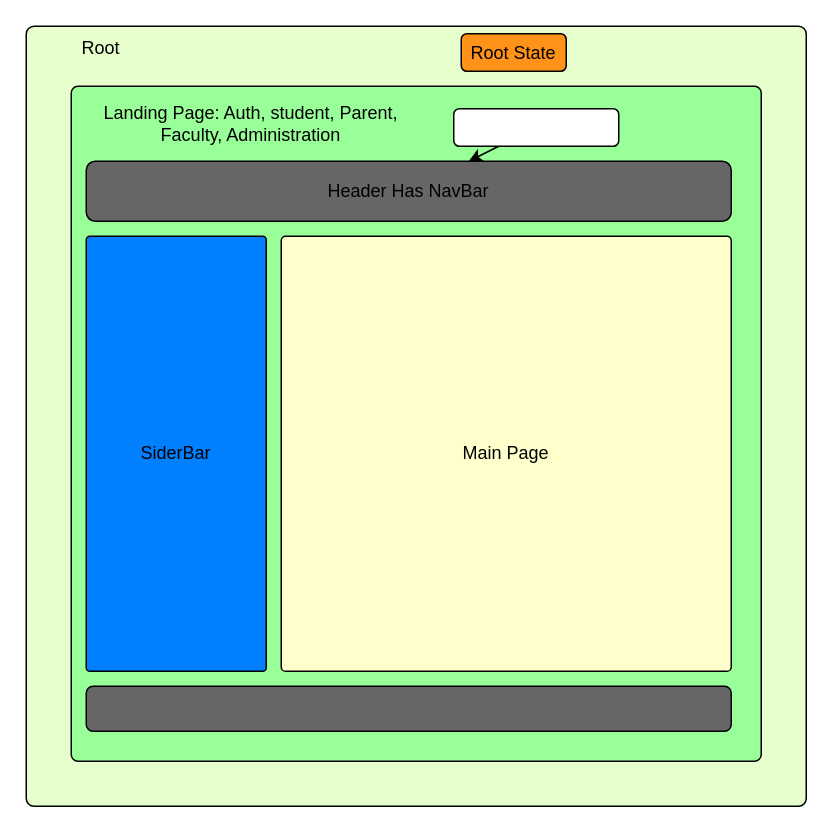
Image size: 833x833. Some labels were removed from this diagram. Each missing label, with the centre of its shape:
authSlice State: (x=535, y=126)
Footer: (x=408, y=708)
